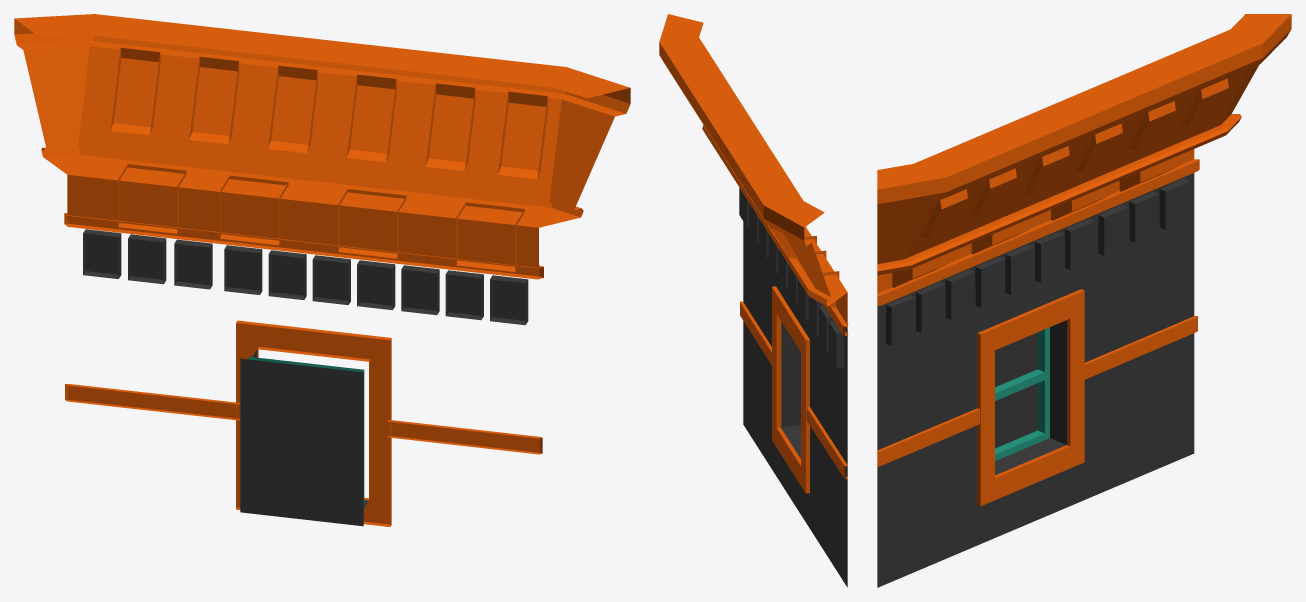
The model's file is SM_T_Corner_Build_02.fbx.
3 views of the same model, side by side, from view 1: azimuth 30°, elevation 25°; view 2: azimuth 150°, elevation 25°; view 3: azimuth 270°, elevation 25° (orthographic). The views are drawn at different scales.
Parts seen in each view (by area): view 1: Plane012, SM_T_Corner_Build_02, Box093, Box098, Box094; view 2: SM_T_Corner_Build_02, Plane012, Box093, Box098, Box094; view 3: SM_T_Corner_Build_02, Plane012, Box093, Box094, Box098.
Part boxes in pixels (x1=…): Plane012: x1=14, y1=14, x2=630, y2=273; SM_T_Corner_Build_02: x1=110, y1=48, x2=548, y2=526; Box093: x1=83, y1=229, x2=528, y2=325; Box098: x1=65, y1=384, x2=542, y2=454; Box094: x1=64, y1=213, x2=543, y2=279; SM_T_Corner_Build_02: x1=743, y1=222, x2=847, y2=587; Plane012: x1=659, y1=14, x2=847, y2=329; Box093: x1=739, y1=188, x2=843, y2=368; Box098: x1=740, y1=301, x2=847, y2=479; Box094: x1=824, y1=305, x2=848, y2=336; SM_T_Corner_Build_02: x1=877, y1=78, x2=1228, y2=587; Plane012: x1=877, y1=14, x2=1291, y2=293; Box093: x1=886, y1=178, x2=1189, y2=345; Box094: x1=877, y1=159, x2=1199, y2=305; Box098: x1=877, y1=316, x2=1197, y2=466.
Bounding box in the file's own units: 702 × 819 × 700.
